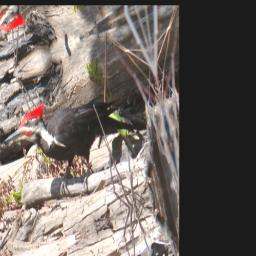Woodpecker: (0, 54, 153, 227)
